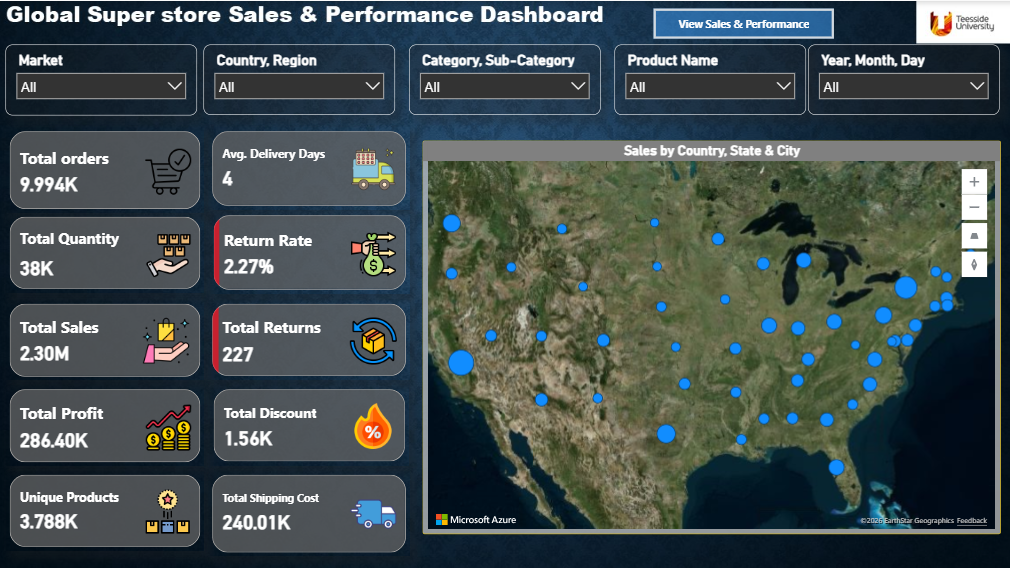

This screenshot's page, from the dashboard's own definition file:
{"tool":"powerbi","page":{"name":"Summary","canvas":[1280,720],"ordinal":0},"visuals":[{"type":"slicer","fields":{"Values":["Orders.Market"]},"box":[10,55,241,89],"z":0},{"type":"slicer","fields":{"Values":["Orders.Country","Orders.Region"]},"box":[258.9,55,241,88.8],"z":1000},{"type":"slicer","fields":{"Values":["Product.Category","Product.Sub-Category"]},"box":[517.8,55,241,88.8],"z":2000},{"type":"slicer","fields":{"Values":["Product.Product Name"]},"box":[776.7,55,241,88.8],"z":3000},{"type":"slicer","fields":{"Values":["Calendar.Year","Calendar.Month","Calendar.Day"]},"box":[1020.5,55,241,88.8],"z":4000},{"type":"cardVisual","fields":{"Data":["CountNonNull(Orders.Order ID)"]},"box":[9.5,159.1,250,108.2],"z":5000},{"type":"cardVisual","fields":{"Data":["Sum(Orders.Quantity)"]},"box":[9.5,267.2,250,101.8],"z":6000},{"type":"cardVisual","fields":{"Data":["Sum(Orders.Sales)"]},"box":[9.5,375.4,250,102],"z":7000},{"type":"cardVisual","fields":{"Data":["Sum(Orders.Profit)"]},"box":[9.5,483.5,250,102],"z":8000},{"type":"cardVisual","fields":{"Data":["CountNonNull(Product.Product ID)"]},"box":[9.5,591.7,250,101.8],"z":9000},{"type":"cardVisual","fields":{"Data":["Orders.Average Delivery Days"]},"box":[264,159.1,254.5,105],"z":10000},{"type":"cardVisual","fields":{"Data":["Returns.Return Rate"]},"box":[265.6,264,252.9,105],"z":11000},{"type":"cardVisual","fields":{"Data":["Returns.Total Returns"]},"box":[264,375.4,254.5,101.8],"z":12000},{"type":"cardVisual","fields":{"Data":["Sum(Orders.Discount)"]},"box":[267.2,483.5,251.3,101.8],"z":13000},{"type":"cardVisual","fields":{"Data":["Sum(Orders.Shipping Cost)"]},"box":[264,591.7,254.5,108.2],"z":14000},{"type":"map","title":"Sales by Country, State & City","fields":{"Category":["Orders.Country","Orders.State","Orders.City"],"Size":["Sum(Orders.Sales)"]},"box":[534.4,176.6,728.5,496.3],"z":15000},{"type":"actionButton","box":[825.5,10,227.5,38.2],"z":16000}]}

Visuals, with their boxes in screenshot pixels (x1, y1, x2, y2), scaled from the page's 1280x720 canvas onto the 1010x568 screenshot:
slicer - Orders.Market: l=8, t=43, r=198, b=114
slicer - Orders.Country x Orders.Region: l=204, t=43, r=394, b=113
slicer - Product.Category x Product.Sub-Category: l=409, t=43, r=599, b=113
slicer - Product.Product Name: l=613, t=43, r=803, b=113
slicer - Calendar.Year x Calendar.Month: l=805, t=43, r=995, b=113
cardVisual - CountNonNull(Orders.Order ID): l=7, t=126, r=205, b=211
cardVisual - Sum(Orders.Quantity): l=7, t=211, r=205, b=291
cardVisual - Sum(Orders.Sales): l=7, t=296, r=205, b=377
cardVisual - Sum(Orders.Profit): l=7, t=381, r=205, b=462
cardVisual - CountNonNull(Product.Product ID): l=7, t=467, r=205, b=547
cardVisual - Orders.Average Delivery Days: l=208, t=126, r=409, b=208
cardVisual - Returns.Return Rate: l=210, t=208, r=409, b=291
cardVisual - Returns.Total Returns: l=208, t=296, r=409, b=376
cardVisual - Sum(Orders.Discount): l=211, t=381, r=409, b=462
cardVisual - Sum(Orders.Shipping Cost): l=208, t=467, r=409, b=552
"Sales by Country, State & City" map: l=422, t=139, r=997, b=531
actionButton: l=651, t=8, r=831, b=38
